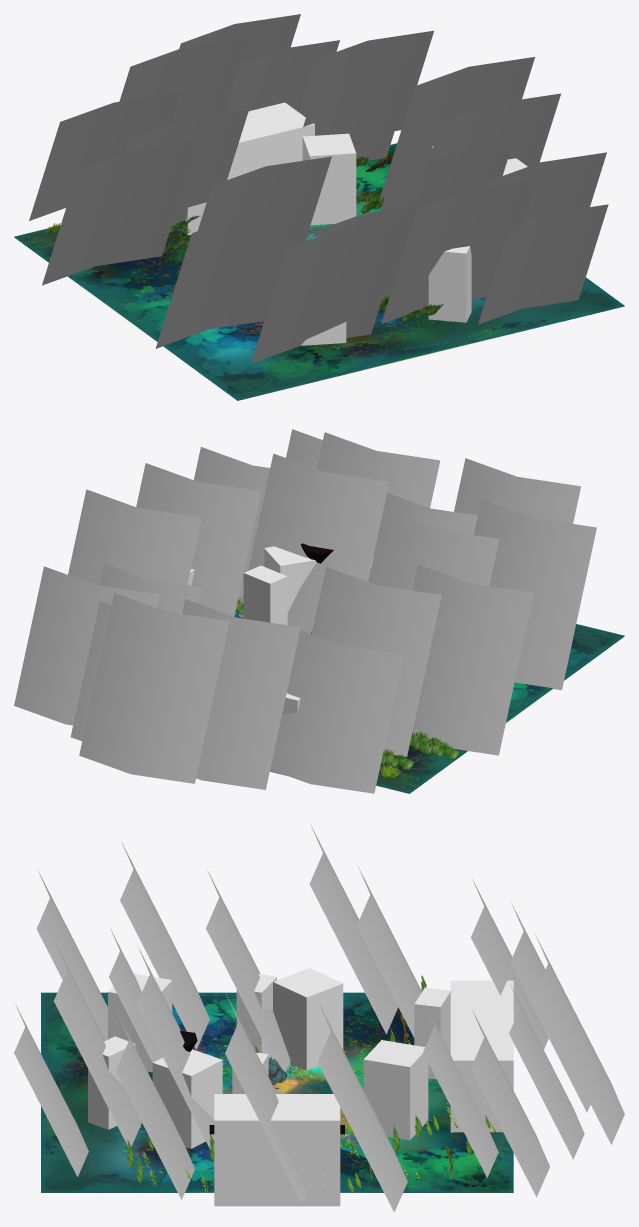
The model's file is FieldDungeon_02_001_Road_L_002.fbx.
The picture shows the model from 3 angles, top to bottom: view 1: azimuth 30°, elevation 25°; view 2: azimuth 150°, elevation 25°; view 3: azimuth 270°, elevation 25°; orthographic projection. The views are drawn at different scales.
Parts seen in each view (by area): view 1: FieldArea_02_001_tree_1_AA, FieldArea_02_001_ground2, FieldArea_02_001_tree_1_BB, FieldDungeon_02_001_Door_Left_001, FieldDungeon_02_001_Door_Front_001, DoorWay_NavMask (1), Cube_08, Cube_03, FieldArea_02_001_kusa, FieldArea_02_001_ground1, Cube_01; view 2: FieldArea_02_001_tree_1_AA, FieldDungeon_02_001_Door_Front_001, FieldArea_02_001_tree_1_BB, FieldDungeon_02_001_Door_Left_001, FieldArea_02_001_ground2, Cube_04, FieldArea_02_001_kusa, Cube_07; view 3: FieldArea_02_001_tree_1_AA, DoorWay_NavMask (1) (×4), FieldArea_02_001_ground2, FieldArea_02_001_tree_1_BB, FieldDungeon_02_001_Door_Left_001, FieldDungeon_02_001_Door_Front_001, Cube_02, Cube_08, Cube_07, FieldDungeon_02_001_Door_Left_001_shadow, FieldArea_02_001_kusa, Cube_06 (+4 smaller).
Part boxes in pixels (<box>): FieldArea_02_001_tree_1_AA: <box>42,110,608,363</box>; FieldArea_02_001_ground2: <box>14,143,624,400</box>; FieldArea_02_001_tree_1_BB: <box>29,30,433,220</box>; FieldDungeon_02_001_Door_Left_001: <box>379,57,561,200</box>; FieldDungeon_02_001_Door_Front_001: <box>119,14,300,124</box>; DoorWay_NavMask (1): <box>227,102,314,179</box>; Cube_08: <box>302,133,356,225</box>; Cube_03: <box>428,246,471,322</box>; FieldArea_02_001_kusa: <box>44,152,443,322</box>; FieldArea_02_001_ground1: <box>14,237,624,400</box>; Cube_01: <box>301,322,346,345</box>; FieldArea_02_001_tree_1_AA: <box>194,429,596,756</box>; FieldDungeon_02_001_Door_Front_001: <box>79,593,300,789</box>; FieldArea_02_001_tree_1_BB: <box>14,564,404,793</box>; FieldDungeon_02_001_Door_Left_001: <box>68,463,261,616</box>; FieldArea_02_001_ground2: <box>376,624,624,793</box>; Cube_04: <box>243,565,287,625</box>; FieldArea_02_001_kusa: <box>235,598,459,778</box>; Cube_07: <box>264,546,316,612</box>; FieldArea_02_001_tree_1_AA: <box>14,824,421,1199</box>; DoorWay_NavMask (1) (×4): <box>214,980,513,1206</box>; FieldArea_02_001_ground2: <box>41,992,513,1192</box>; FieldArea_02_001_tree_1_BB: <box>423,877,584,1197</box>; FieldDungeon_02_001_Door_Left_001: <box>225,994,407,1212</box>; FieldDungeon_02_001_Door_Front_001: <box>510,901,624,1144</box>; Cube_02: <box>273,968,343,1070</box>; Cube_08: <box>363,1040,428,1140</box>; Cube_07: <box>152,1049,222,1148</box>; FieldDungeon_02_001_Door_Left_001_shadow: <box>156,1141,412,1192</box>; FieldArea_02_001_kusa: <box>126,974,504,1192</box>; Cube_06: <box>414,987,450,1079</box>.
Size of what is drawn, in the model's own units: 17.85 by 5.86 by 19.38.
